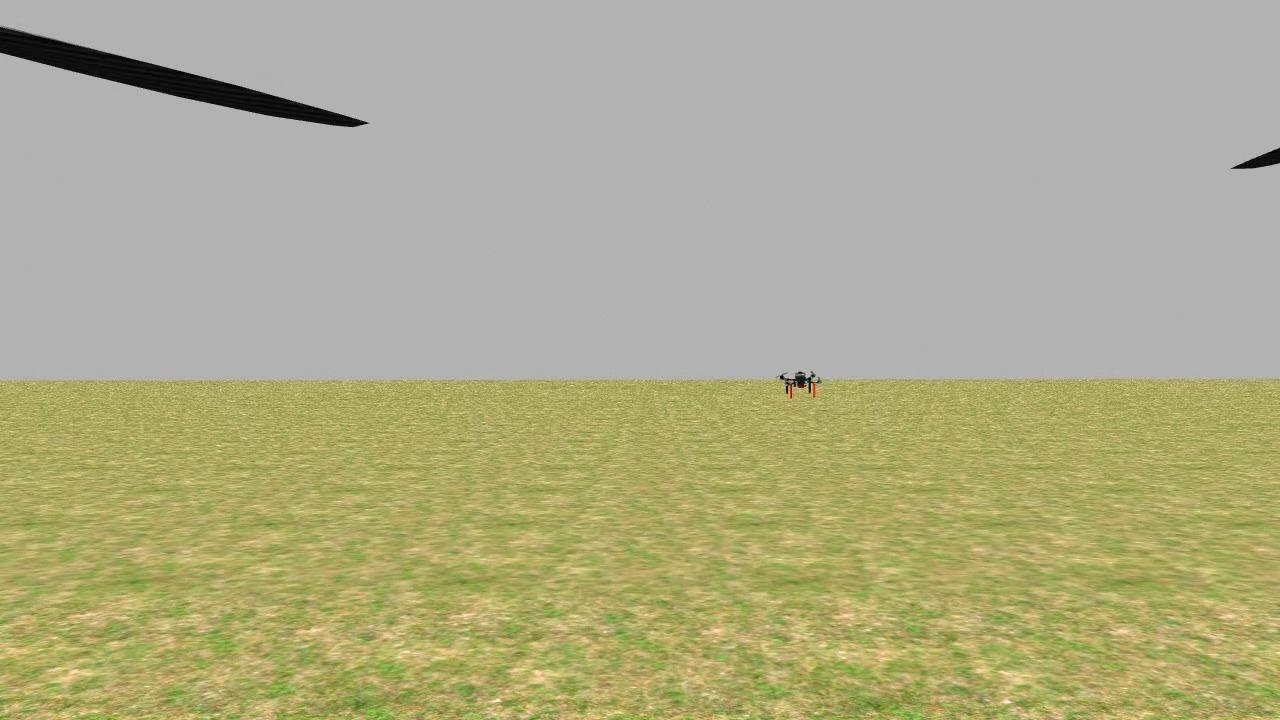UAV: (741, 343, 857, 419)
